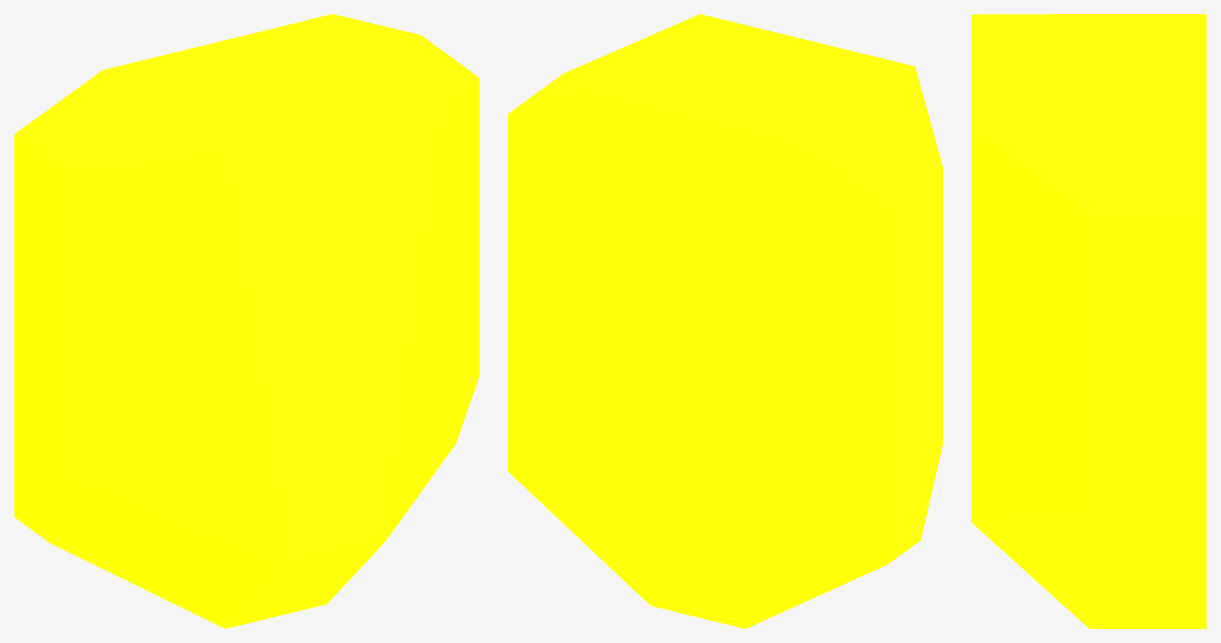
The model's file is wallbox.glb.
The picture shows the model from 3 angles, left to right: view 1: azimuth 30°, elevation 25°; view 2: azimuth 150°, elevation 25°; view 3: azimuth 270°, elevation 25°; orthographic projection. The views are drawn at different scales.
Visible parts, largest first — view 1: wallbox; view 2: wallbox; view 3: wallbox.
Part boxes in pixels (x1,y1,x2,y2): wallbox: (14,14,479,628); wallbox: (508,14,942,628); wallbox: (971,14,1206,628).
Size of the model in its own units: 0.2 by 0.25 by 0.1.
Materials: 1 (1 with a texture image).
